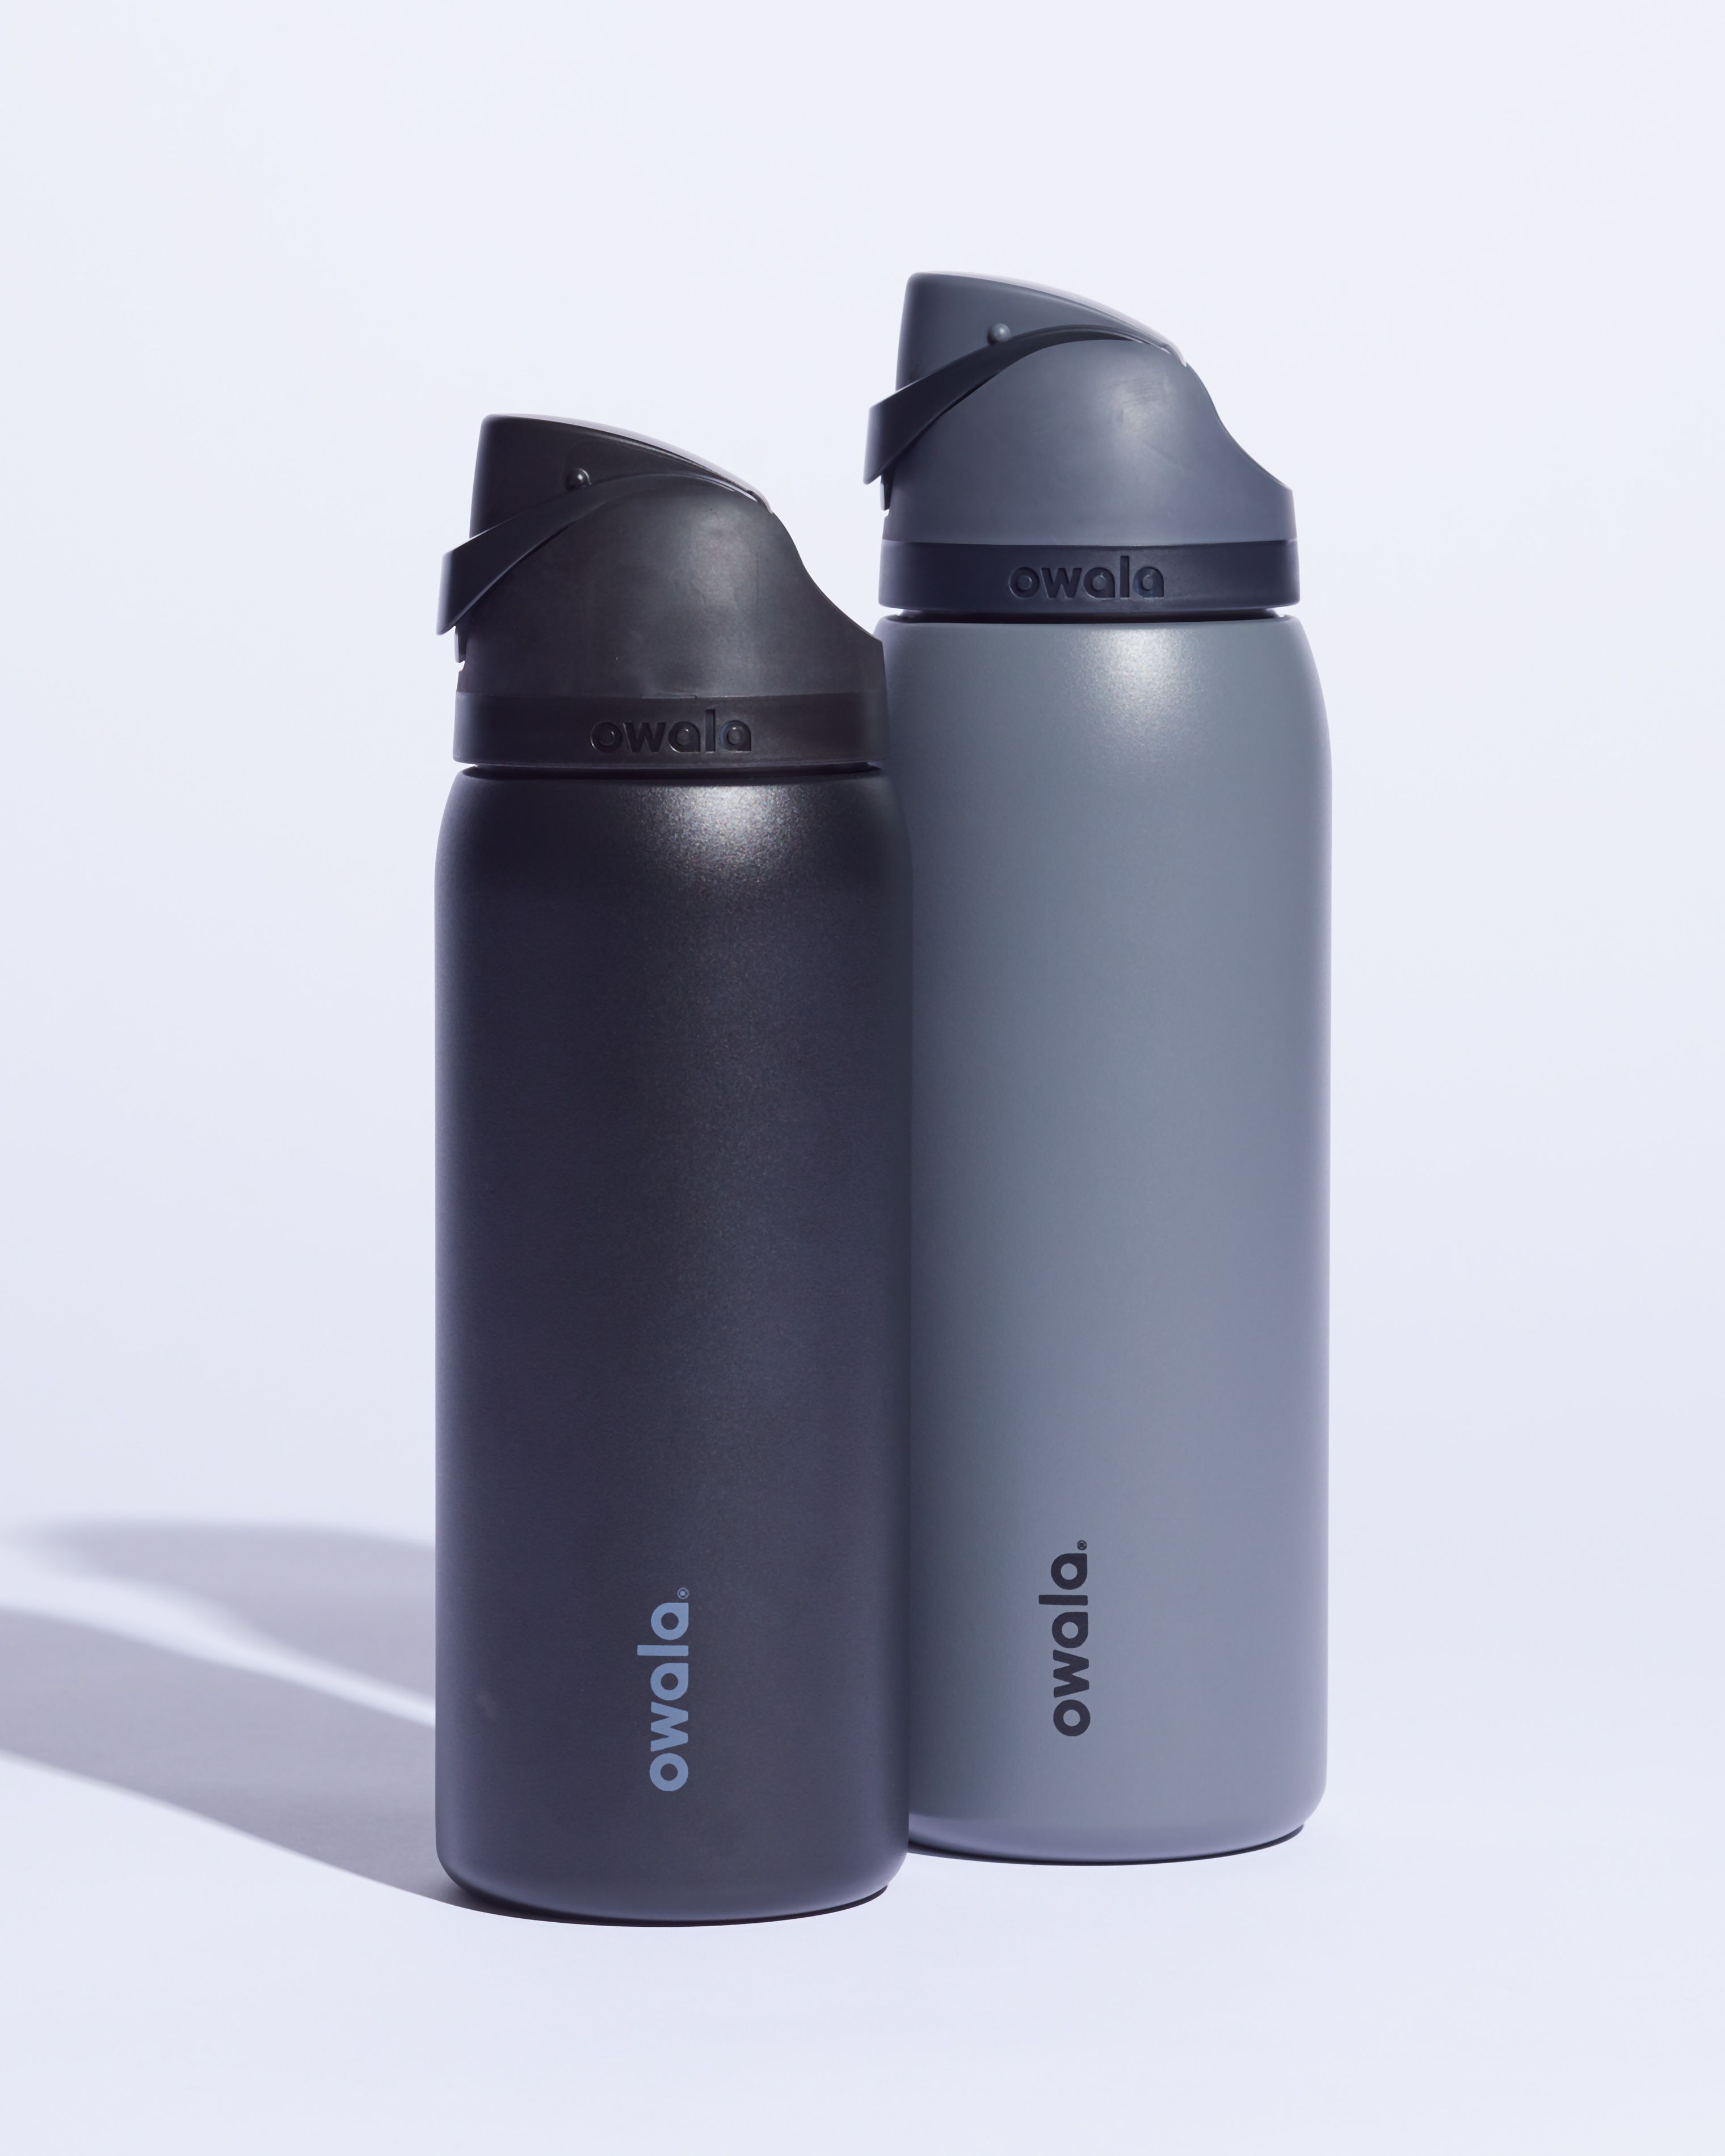bottle_cap: (377, 400, 887, 825)
water_bottle: (864, 558, 1456, 1922)
